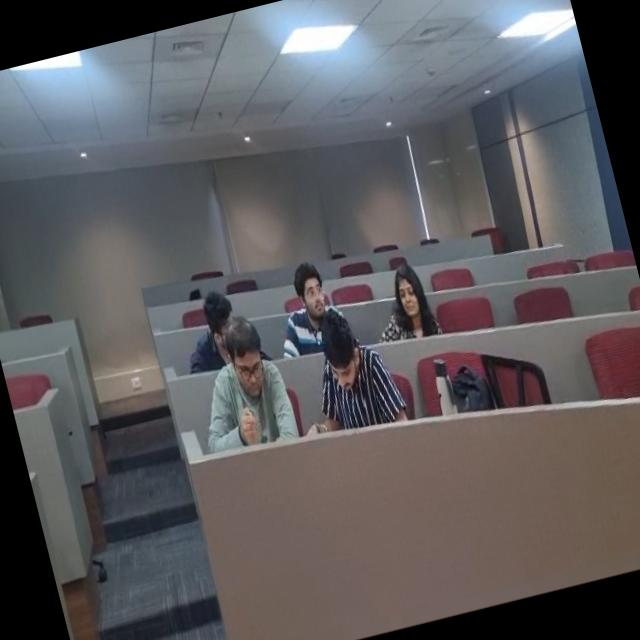cheating: (197, 316, 306, 458), (277, 250, 351, 347), (184, 274, 254, 376)
non-cheating: (294, 305, 406, 436), (364, 245, 440, 349)
